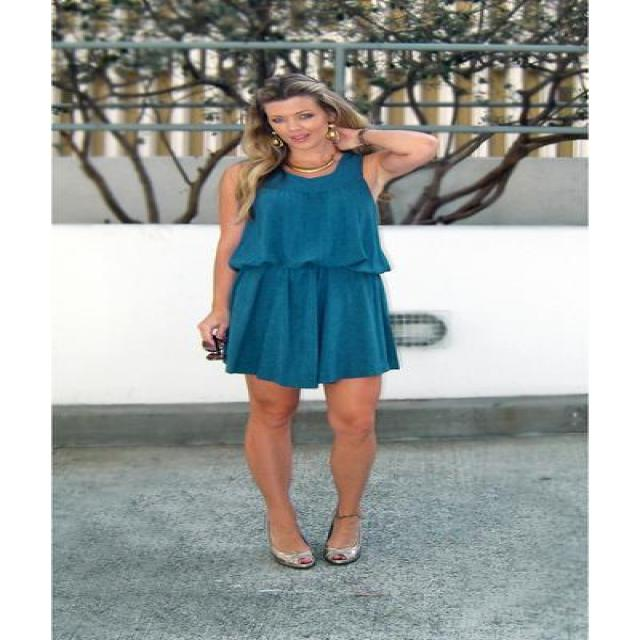dress: (213, 138, 398, 388)
shoe: (268, 525, 369, 572)
